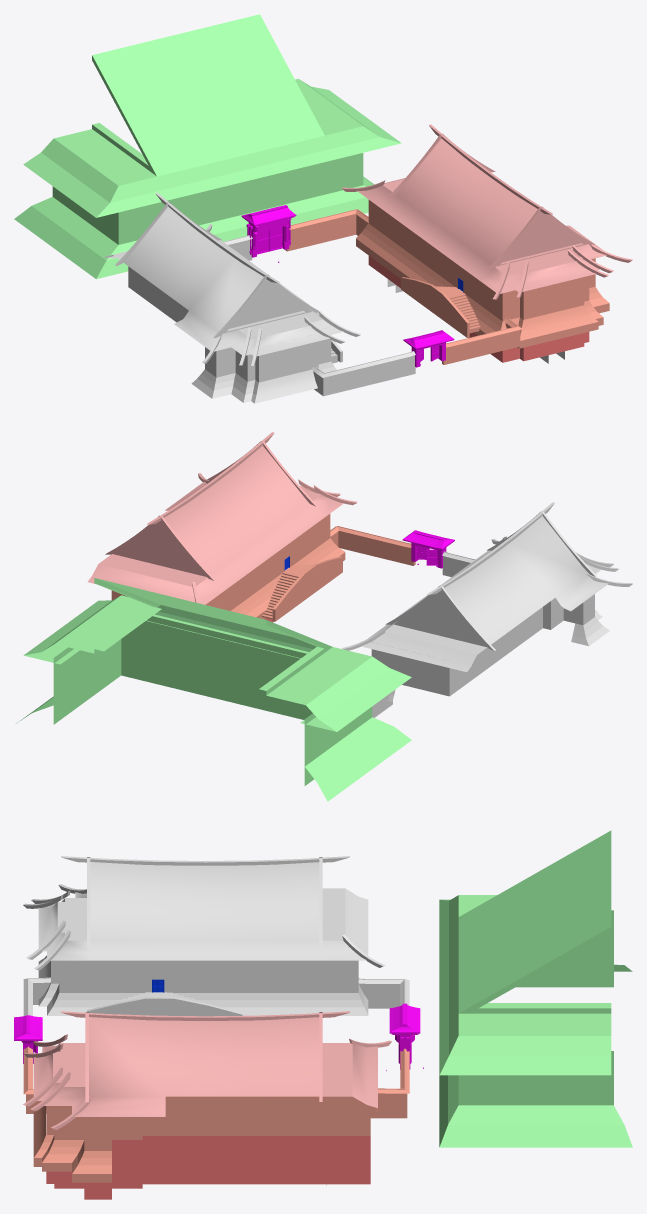
File: TempleUnwrapped.fbx
3 renders of one model, top to bottom at view 1: azimuth 30°, elevation 25°; view 2: azimuth 150°, elevation 25°; view 3: azimuth 270°, elevation 25°, orthographic. The views are drawn at different scales.
Parts seen in each view (by area): view 1: Background Building - Roof, East Wing - Roof.001, West Wing - Roof.001, Background Builidng, Box003, Inner Wall - East Wing (Upper), Curved Wall - East Wing, West Wing - Outer Wall, Front Wall00, West Wing - Curved Wall, Back Wall, Inner Wall - East Wing (Lower) (+6 smaller); view 2: East Wing - Roof.001, Background Building - Roof, Background Builidng, West Wing - Roof.001, West Wing - Outer Wall, Box003, Inner Wall - East Wing (Upper), Front Wall00, East Wing Stair Rails, Curved Wall - East Wing, Front Gate.001, West Wing - Curved Wall (+3 smaller); view 3: Background Building - Roof, West Wing - Roof.001, East Wing - Roof.001, Inner Wall - East Wing (Lower), Inner Wall - East Wing (Upper), West Wing - Outer Wall, Box003, Background Builidng, West Wing - Curved Wall, Curved Wall - East Wing, Back Wall, West Wing Stair Rails (+5 smaller).
Part boxes in pixels (x1,y1,x2,y2): Background Building - Roof: [23, 14, 401, 217]; East Wing - Roof.001: [357, 138, 606, 293]; West Wing - Roof.001: [104, 206, 343, 356]; Background Builidng: [52, 153, 363, 244]; Box003: [14, 176, 373, 279]; Inner Wall - East Wing (Upper): [368, 200, 595, 321]; Curved Wall - East Wing: [356, 223, 609, 348]; West Wing - Outer Wall: [128, 266, 331, 382]; Front Wall00: [311, 317, 522, 396]; West Wing - Curved Wall: [191, 361, 336, 403]; Back Wall: [223, 209, 368, 260]; Inner Wall - East Wing (Lower): [368, 256, 589, 362]; East Wing - Roof.001: [87, 445, 343, 604]; Background Building - Roof: [23, 578, 411, 731]; Background Builidng: [53, 616, 372, 785]; West Wing - Roof.001: [361, 516, 608, 672]; West Wing - Outer Wall: [371, 594, 594, 696]; Box003: [16, 696, 411, 801]; Inner Wall - East Wing (Upper): [111, 514, 330, 610]; Front Wall00: [330, 526, 475, 576]; East Wing Stair Rails: [272, 556, 342, 621]; Curved Wall - East Wing: [231, 538, 345, 619]; Front Gate.001: [402, 530, 454, 568]; West Wing - Curved Wall: [388, 610, 609, 701]; Background Building - Roof: [439, 830, 611, 1075]; West Wing - Roof.001: [38, 862, 368, 960]; East Wing - Roof.001: [33, 1017, 377, 1116]; Inner Wall - East Wing (Lower): [46, 1136, 370, 1199]; Inner Wall - East Wing (Upper): [46, 1096, 370, 1150]; West Wing - Outer Wall: [51, 960, 358, 992]; Box003: [439, 964, 632, 1147]; Background Builidng: [458, 910, 613, 1105]; West Wing - Curved Wall: [38, 955, 368, 1015]; Curved Wall - East Wing: [33, 1106, 377, 1182]; Back Wall: [358, 978, 409, 1118]; West Wing Stair Rails: [87, 997, 242, 1016].
Size of the model in its own units: 18832 by 7845 by 20054.
